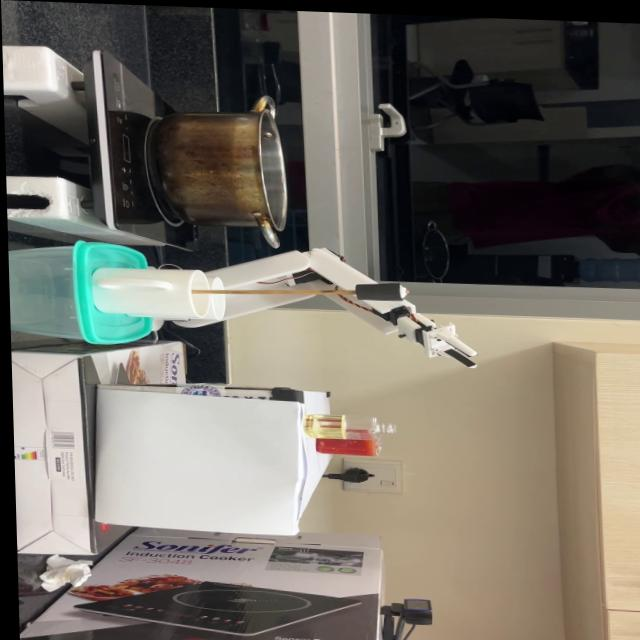blended_tomatoes_pepper: (312, 425, 374, 454)
cooking_pot: (142, 90, 290, 248)
oil: (300, 411, 345, 436)
spatula: (190, 274, 409, 301)
